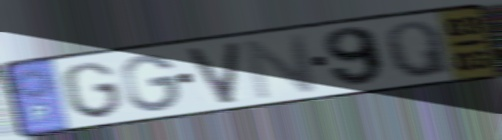9: (324, 25, 390, 90)
G: (59, 59, 126, 121), (120, 52, 183, 114)
N: (241, 31, 320, 102)
Q: (382, 19, 456, 81)
V: (183, 39, 243, 107)
